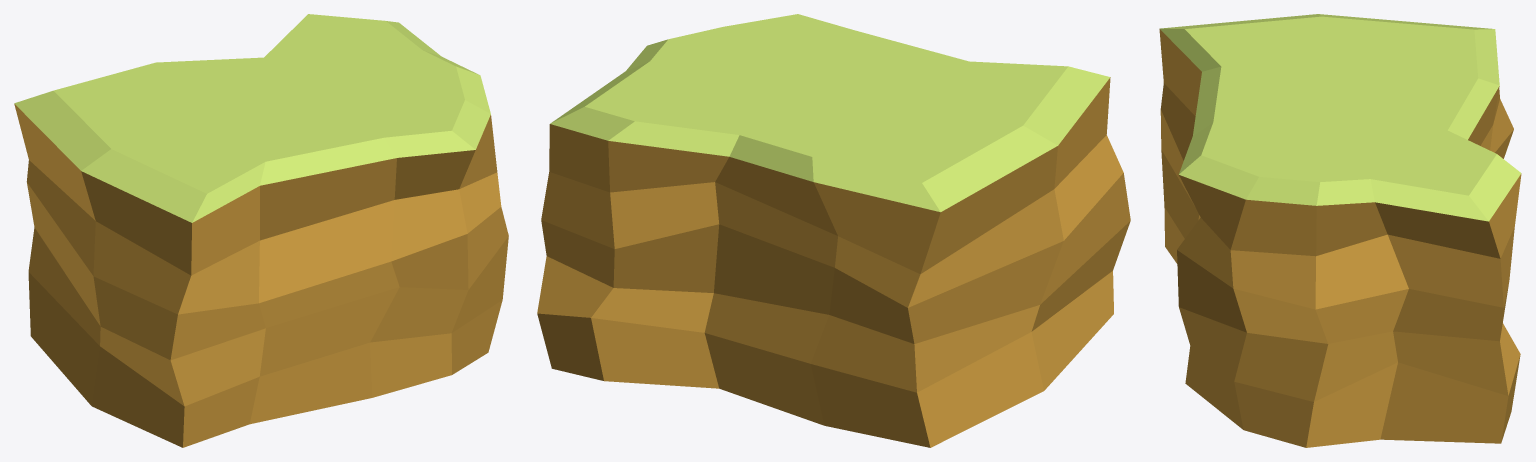
Rendered from Floor_2.fbx.
3 views of the same model, side by side, from view 1: azimuth 30°, elevation 25°; view 2: azimuth 150°, elevation 25°; view 3: azimuth 270°, elevation 25° (orthographic). The views are drawn at different scales.
Parts seen in each view (by area): view 1: Plane; view 2: Plane; view 3: Plane.
Boxes of the visible parts, x1,y1,x2,y2 form: Plane: (14,14,508,447); Plane: (537,14,1130,447); Plane: (1159,14,1521,447).
Bounding box in the file's own units: 729 × 449 × 572.
